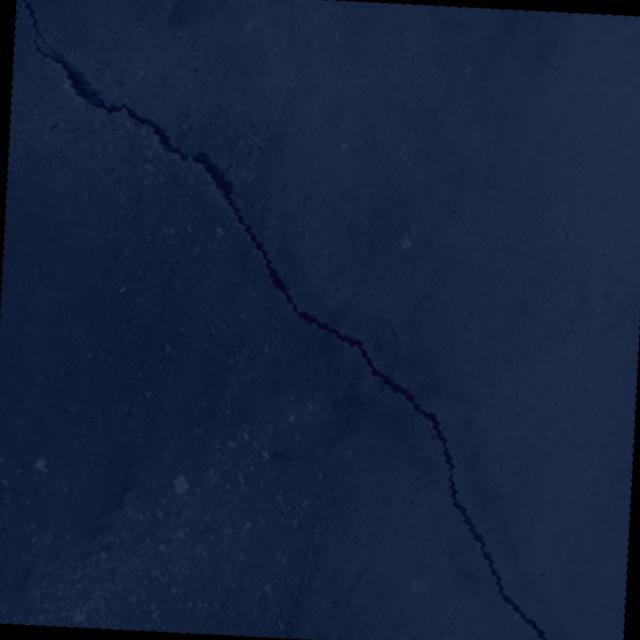crack: (0, 0, 594, 640), (14, 16, 34, 40)
